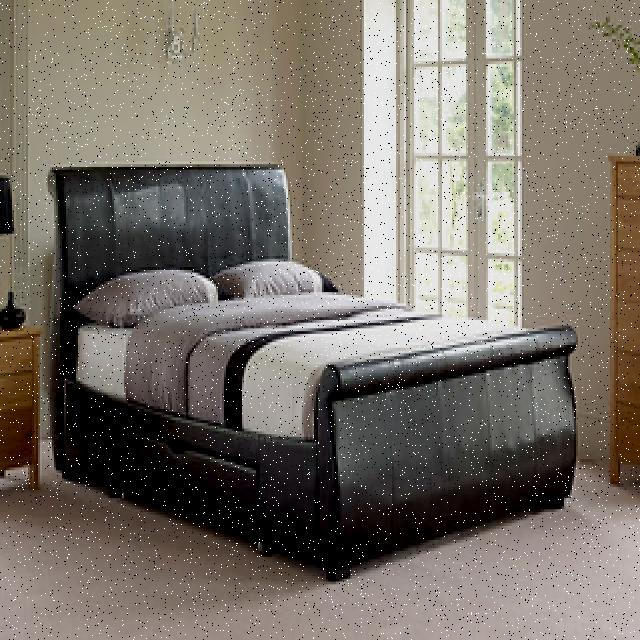bed: (52, 164, 584, 558)
